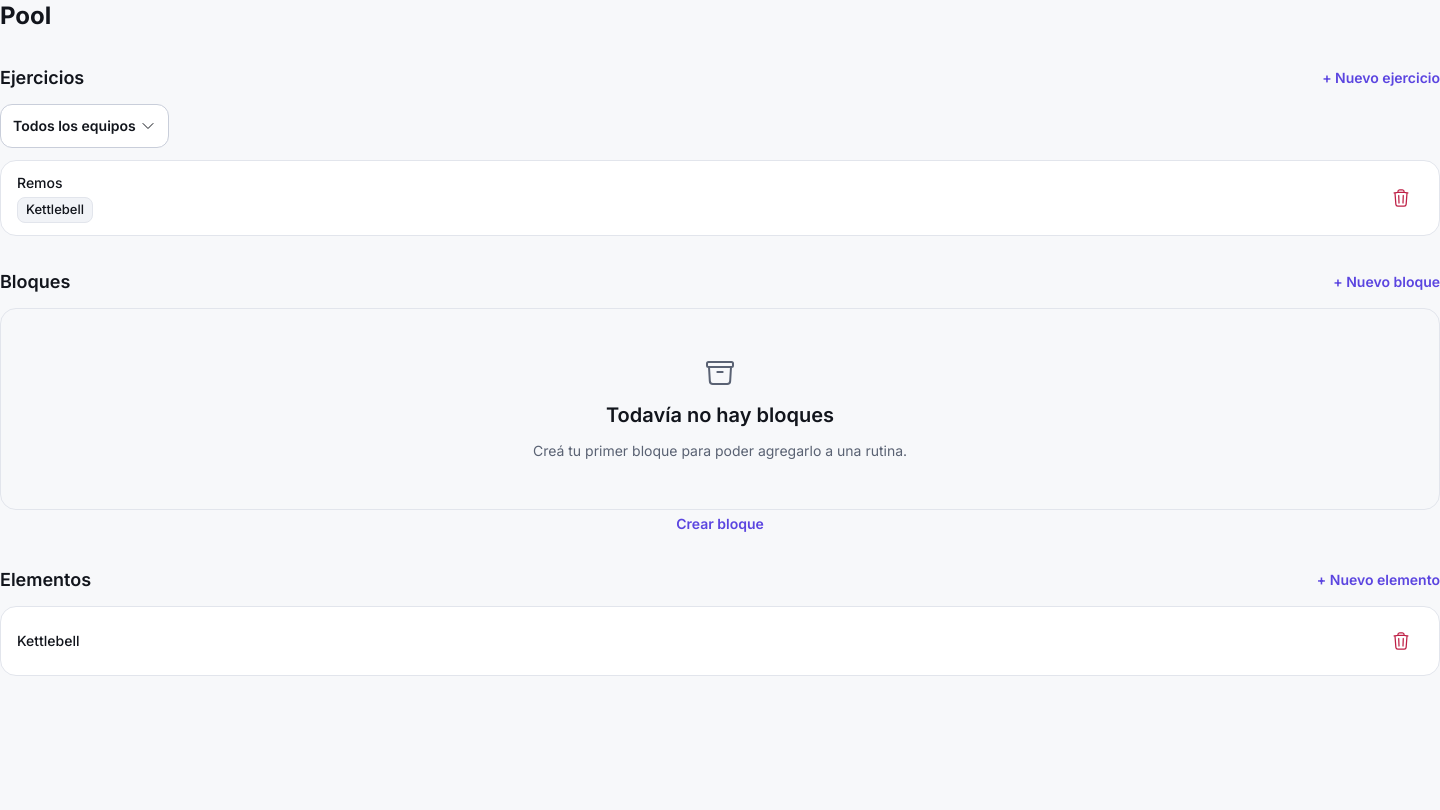
Scenario: PoolPage › filtro activo: la X lo limpia y vuelve a listar todo
This screenshot has width=1440, height=810.
Expected: the text "Remos" is shown, [17,174,62,191]
Click the button "Todos los equipos": (84, 126) [0,104,169,148]
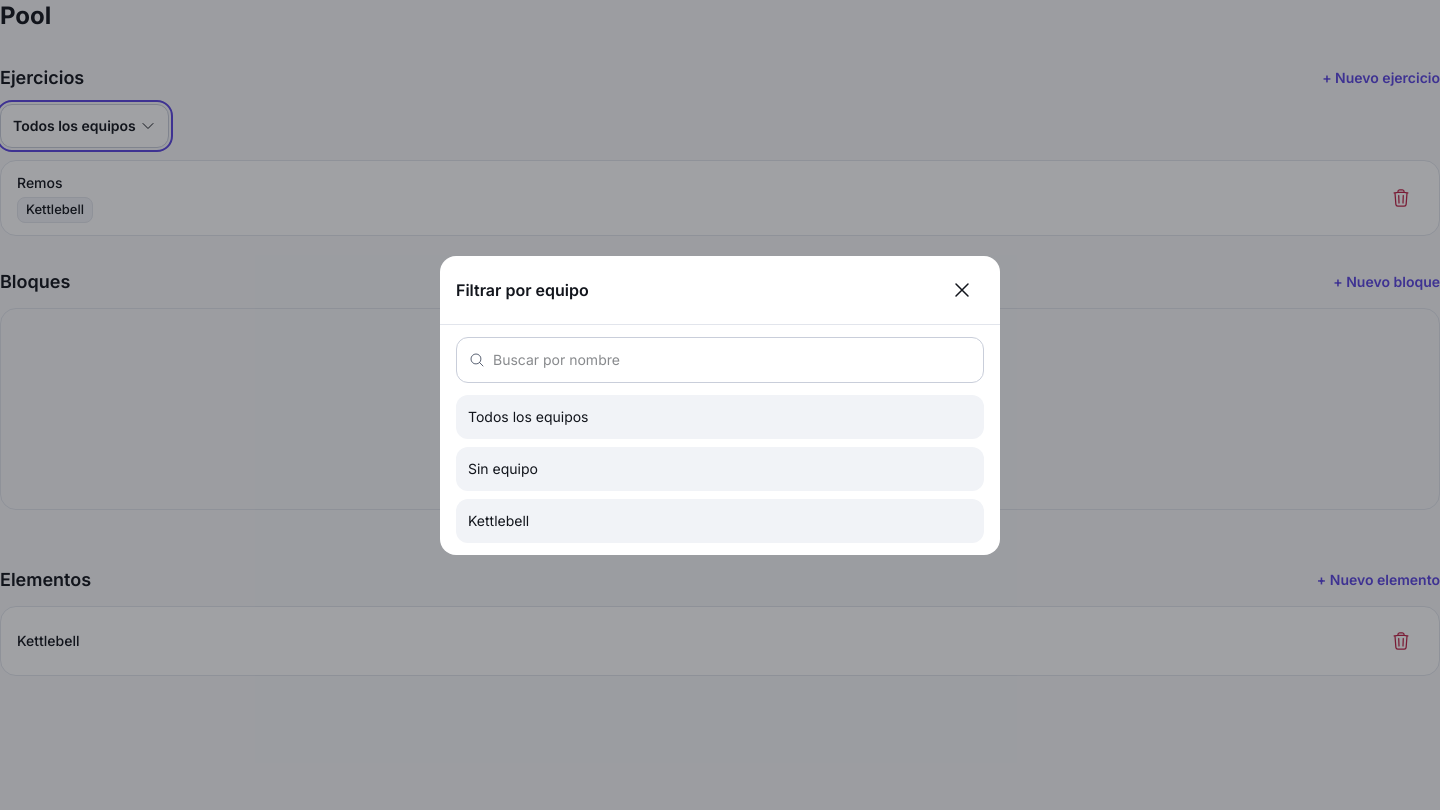
Click the button "Kettlebell": (499, 520) [456,498,984,542]
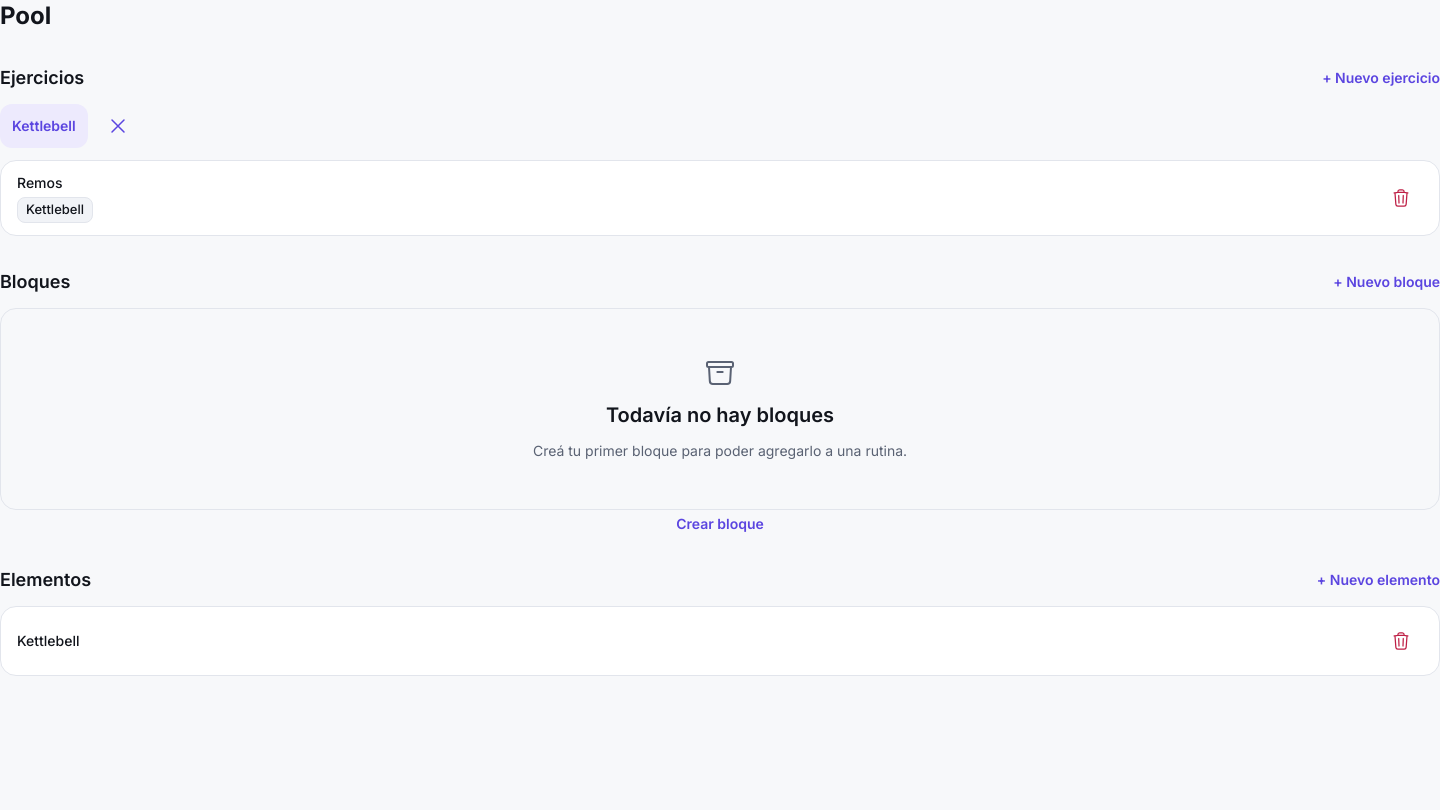
Click the button named "quitar filtro": (118, 126) [96,104,140,148]
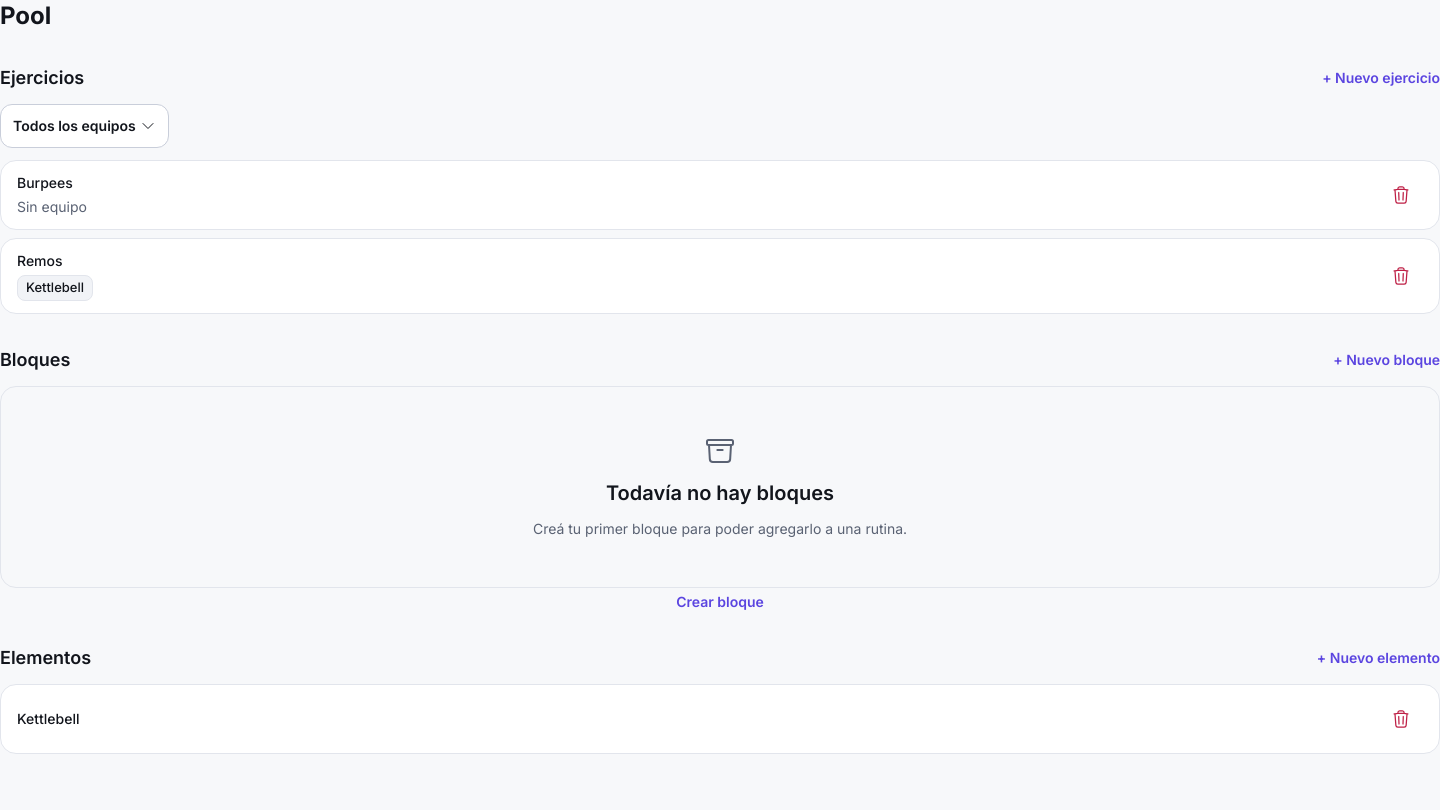
Now the text "Burpees" is shown, box [17,174,73,191]
